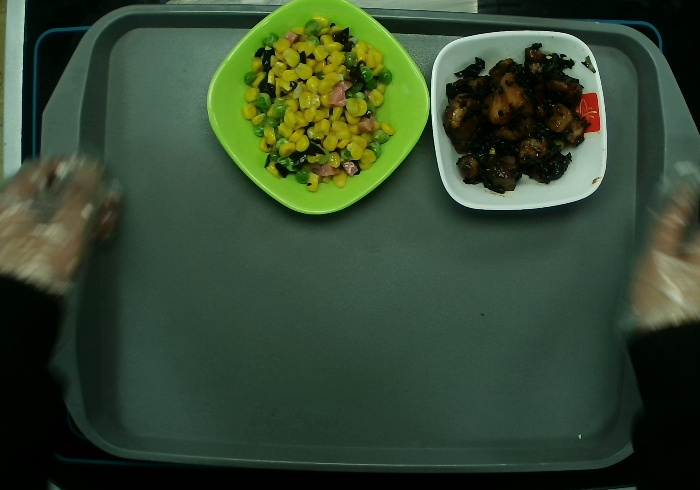SHKJ-Bai_Se_Xiao_Fang_Die: (428, 29, 610, 213)
SHKJ-Lv_Se_Cai_Die: (206, 1, 434, 219)
